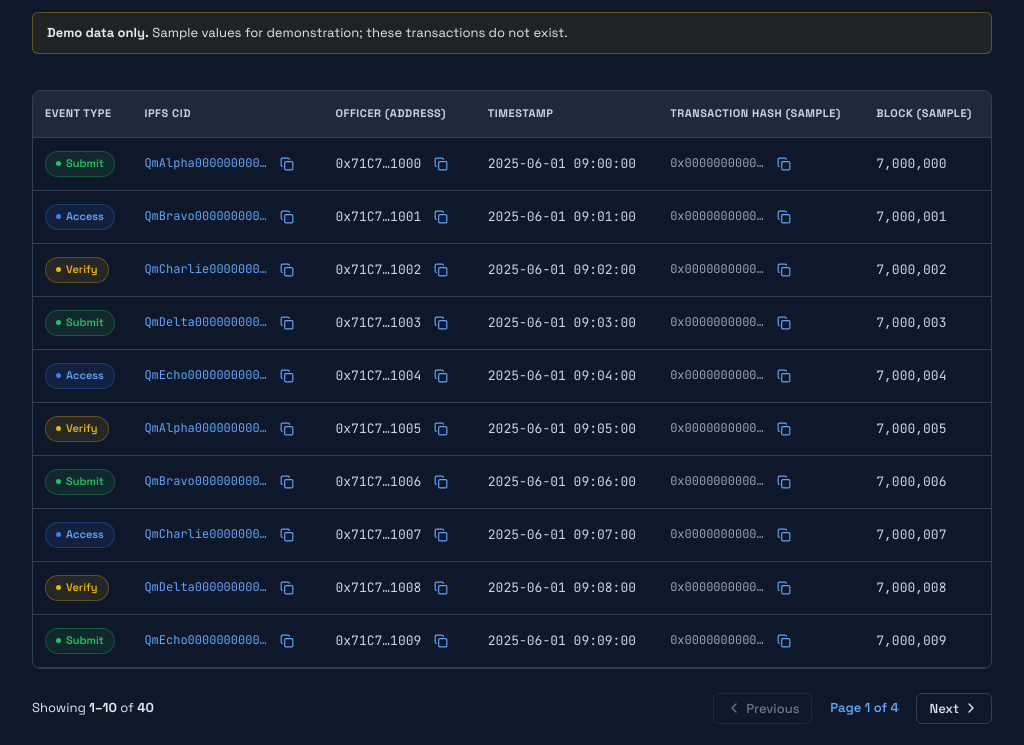
Scenario: ChainOfCustody: filtering › returns to page 1 when the CID filter changes
Click the button with aria-label "Next page" at (954, 708), box [916,693,992,724]
(page scrolled)
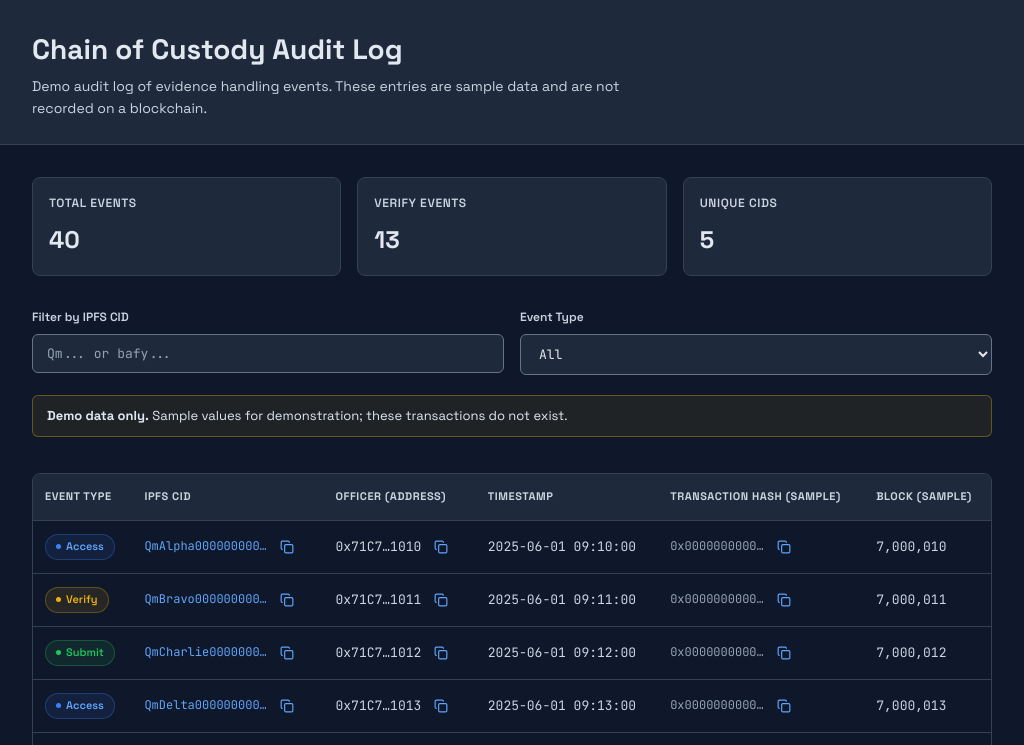
"Qm" matches all 40 events, so page 2 would still be valid: only an explicit reset gets us back.
Type "Qm" into the field labelled "Filter by IPFS CID" at (268, 353), box [32,334,504,372]
(page scrolled)
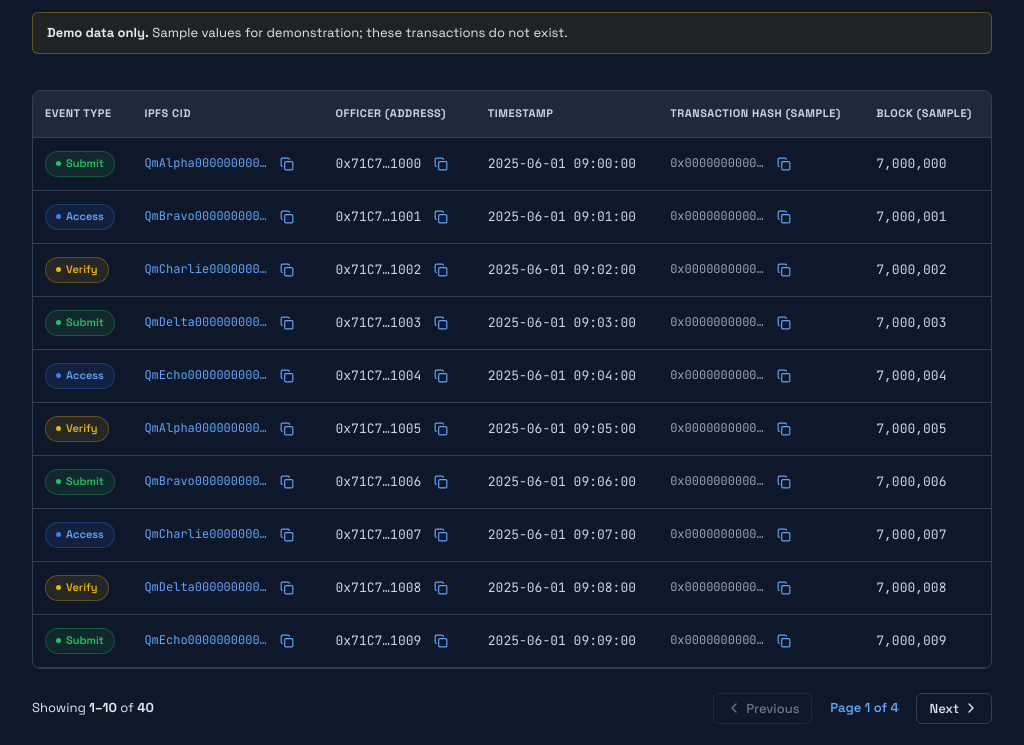
Now the navigation bar named "Pagination" shows "Page 1 of 4", box [32,693,992,724]
